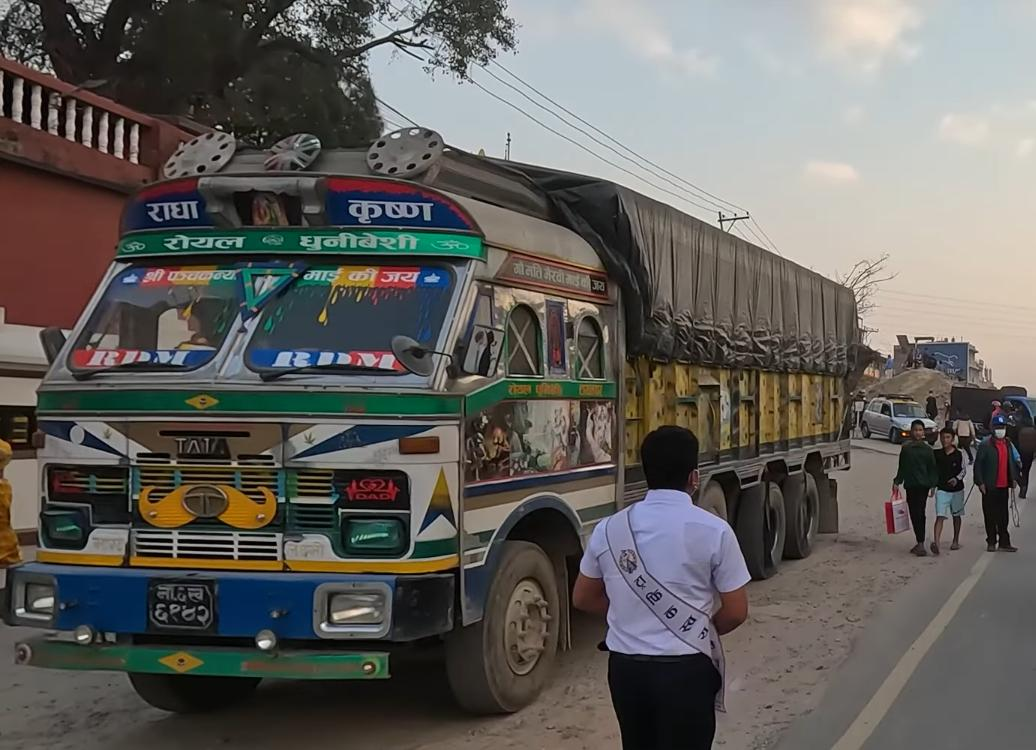taxi: (861, 391, 940, 447)
truck: (0, 126, 864, 716)
